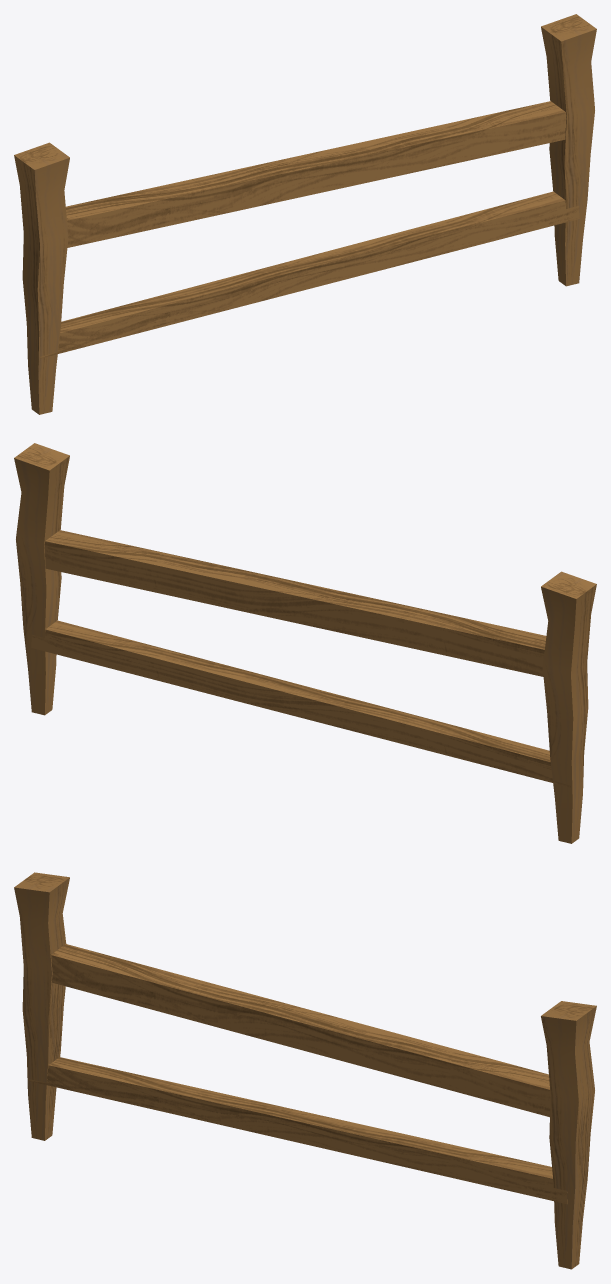
File: Fence_Tipo3.fbx
The picture shows the model from 3 angles, top to bottom: view 1: azimuth 30°, elevation 25°; view 2: azimuth 150°, elevation 25°; view 3: azimuth 330°, elevation 25°; orthographic projection.
Visible parts, largest first — view 1: pCube17, pCube18, pCube15, pCube19; view 2: pCube17, pCube18, pCube15, pCube19; view 3: pCube17, pCube18, pCube19, pCube15.
Part boxes in pixels (x1=…): pCube17: x1=65, y1=101, x2=566, y2=247; pCube18: x1=40, y1=191, x2=579, y2=358; pCube15: x1=14, y1=142, x2=69, y2=414; pCube19: x1=541, y1=14, x2=596, y2=286; pCube17: x1=44, y1=530, x2=546, y2=676; pCube18: x1=31, y1=620, x2=570, y2=787; pCube15: x1=541, y1=571, x2=596, y2=843; pCube19: x1=14, y1=443, x2=69, y2=715; pCube17: x1=51, y1=944, x2=550, y2=1117; pCube18: x1=28, y1=1057, x2=567, y2=1204; pCube19: x1=541, y1=1001, x2=596, y2=1269; pCube15: x1=14, y1=872, x2=69, y2=1140.
Size of the model in its own units: 21.51 by 9.36 by 1.36.
